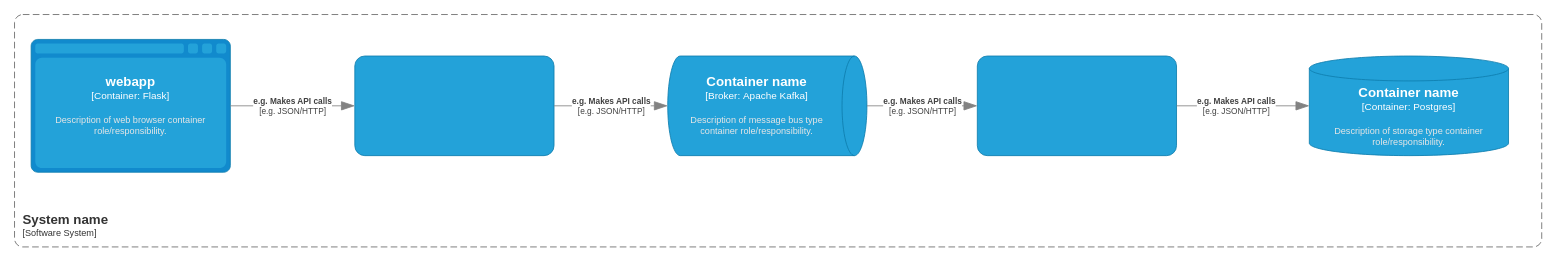
The diagram is 1556 pixels wide and 261 high, and some of its shapes have lost their labels. Each missing label, with the box of its shape:
API [Container: FastApi] Description of container role/responsibility.: (354, 55, 554, 156)
Container name [Container: Python] Description of container role/responsibility.: (976, 55, 1177, 156)
